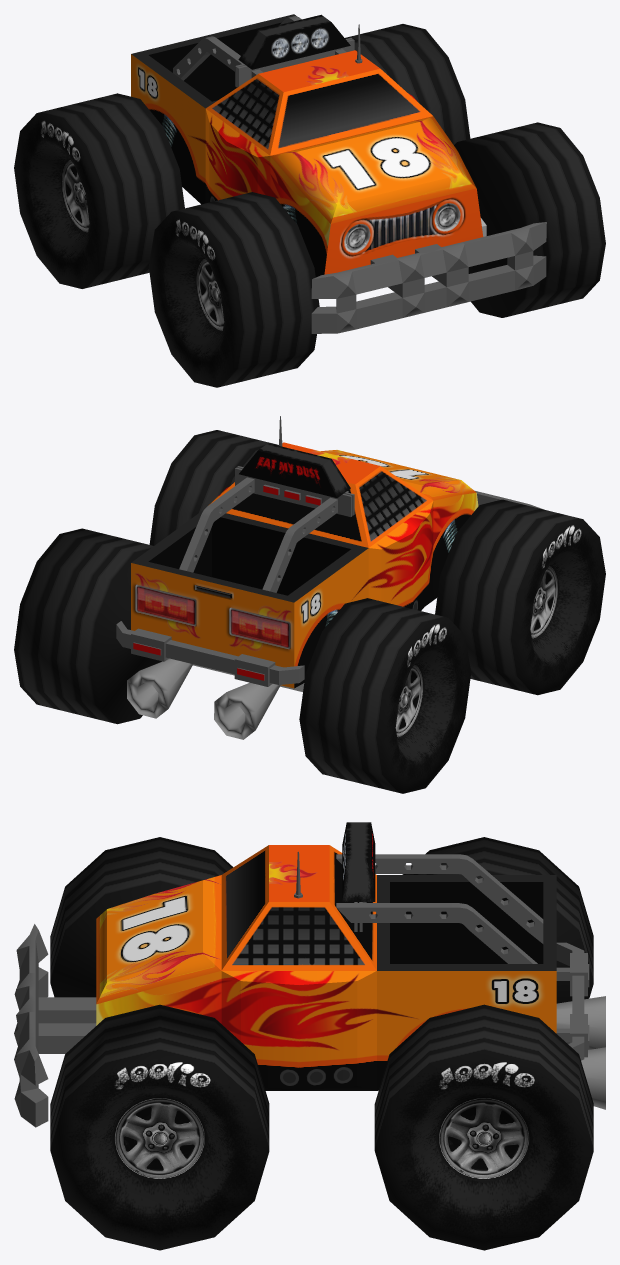
Rendered from monsterTruck.fbx.
3 views of the same model, one above another, from view 1: azimuth 30°, elevation 25°; view 2: azimuth 150°, elevation 25°; view 3: azimuth 270°, elevation 25° (orthographic). The views are drawn at different scales.
Parts seen in each view (by area): view 1: body1, FR_wheel, RR_wheel, FL_wheel, guard, RL_wheel, topLight, rollBars1, panels; view 2: body1, RR_wheel, FR_wheel, RL_wheel, FL_wheel, muffler1, backBumper, rollBars1, topLight, panels; view 3: body1, RL_wheel, FL_wheel, FR_wheel, guard, rollBars1, RR_wheel, topLight, muffler1, backBumper.
Part boxes in pixels (left/top/right/bottom): body1: left=131, top=14, right=483, bottom=277; FR_wheel: left=148, top=192, right=319, bottom=387; RR_wheel: left=14, top=93, right=184, bottom=288; FL_wheel: left=454, top=122, right=605, bottom=317; guard: left=311, top=222, right=546, bottom=333; RL_wheel: left=345, top=24, right=470, bottom=144; topLight: left=238, top=14, right=350, bottom=69; rollBars1: left=173, top=16, right=346, bottom=80; panels: left=235, top=38, right=354, bottom=87; body1: left=131, top=442, right=478, bottom=688; RR_wheel: left=299, top=598, right=471, bottom=793; FR_wheel: left=435, top=499, right=605, bottom=695; RL_wheel: left=14, top=528, right=161, bottom=724; FL_wheel: left=149, top=430, right=278, bottom=545; muffler1: left=127, top=658, right=280, bottom=739; backBumper: left=116, top=621, right=304, bottom=686; rollBars1: left=179, top=477, right=348, bottom=592; topLight: left=239, top=443, right=350, bottom=497; panels: left=235, top=466, right=354, bottom=516; body1: left=96, top=845, right=556, bottom=1090; RL_wheel: left=374, top=1004, right=593, bottom=1250; FL_wheel: left=50, top=1004, right=269, bottom=1250; FR_wheel: left=50, top=837, right=233, bottom=997; guard: left=14, top=924, right=96, bottom=1127; rollBars1: left=336, top=854, right=543, bottom=963; RR_wheel: left=402, top=837, right=593, bottom=1003; topLight: left=342, top=822, right=375, bottom=901; muffler1: left=556, top=996, right=605, bottom=1109; backBumper: left=556, top=942, right=587, bottom=1060.
Bounding box in the file's own units: 27.29 × 18.6 × 31.74.
